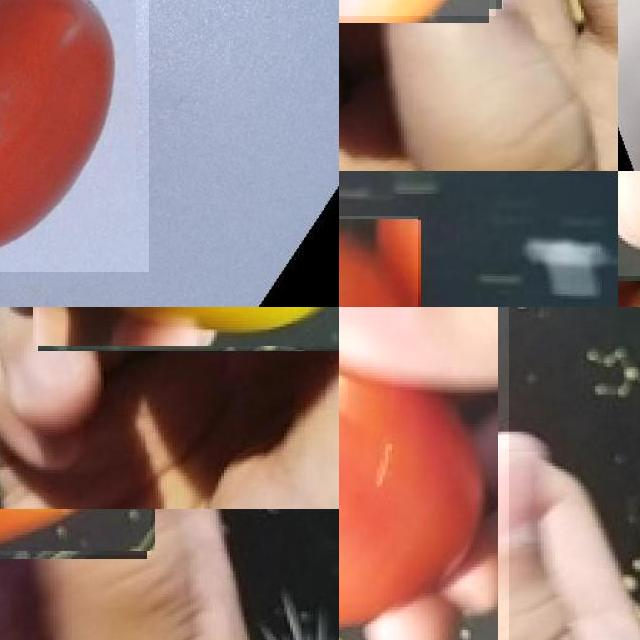0: (339, 216, 418, 307)
1: (339, 307, 509, 640)
Fresh Tomato: (0, 0, 149, 271)
